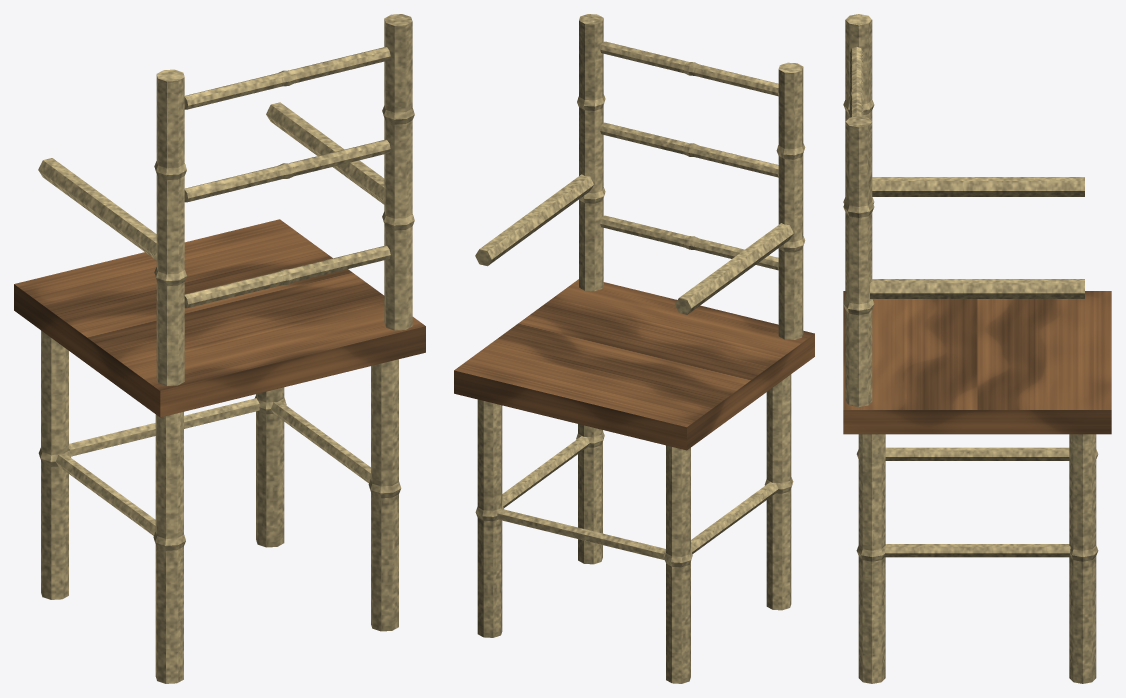
File: bamboo_chair.fbx
3 views of the same model, side by side, from view 1: azimuth 30°, elevation 25°; view 2: azimuth 150°, elevation 25°; view 3: azimuth 270°, elevation 25° (orthographic). The views are drawn at different scales.
Visible parts, largest first — view 1: bamboo_chair; view 2: bamboo_chair; view 3: bamboo_chair.
Part boxes in pixels (x1,y1,x2,y2): bamboo_chair: (14,14,425,683); bamboo_chair: (454,14,814,683); bamboo_chair: (843,14,1111,683).
Bounding box in the file's own units: 42 × 92 × 40.
